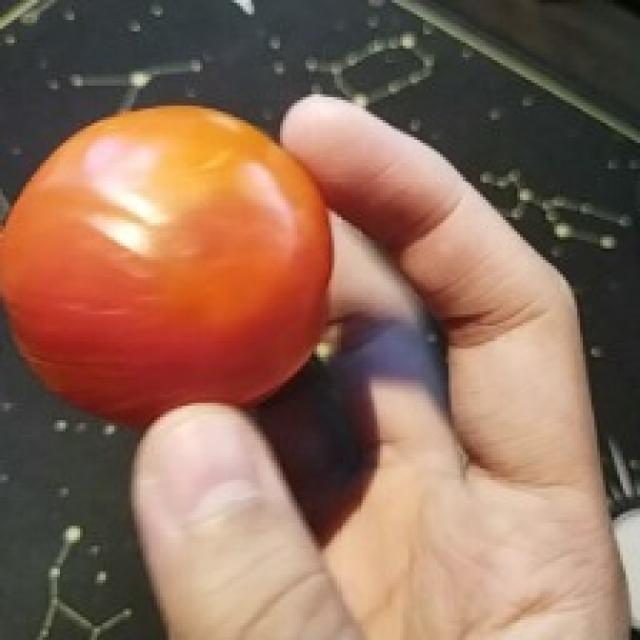Rotten Tomato: (0, 111, 352, 432)
